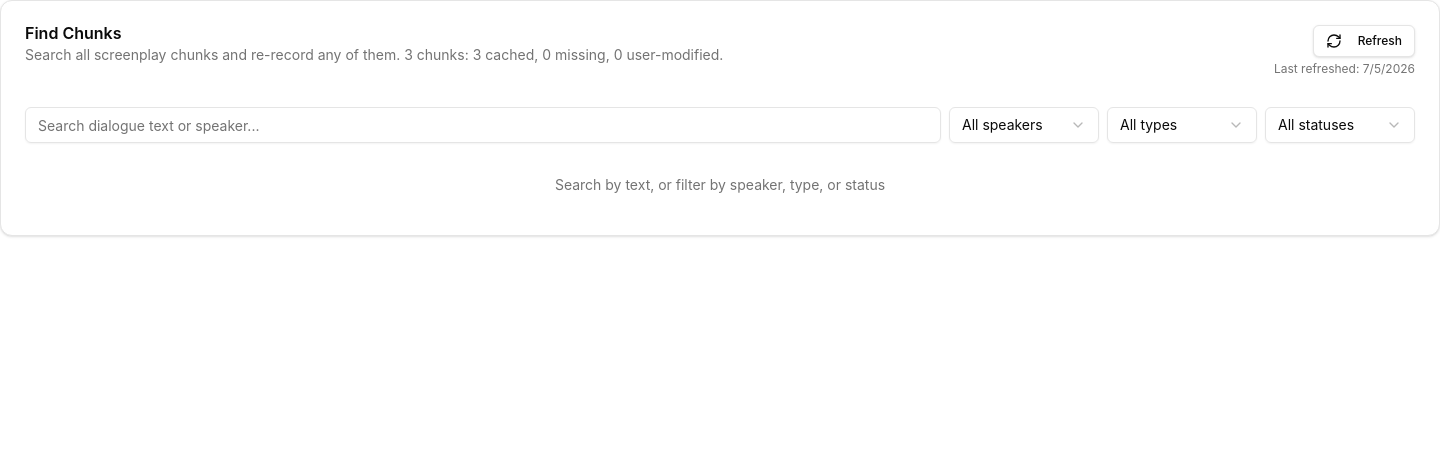
Test case: ChunkSearchSection › hides the chunk number on collapsed cards but keeps it on unique ones
In the field named "Search chunks": (483,125) [25,107,941,143], type "repeated"
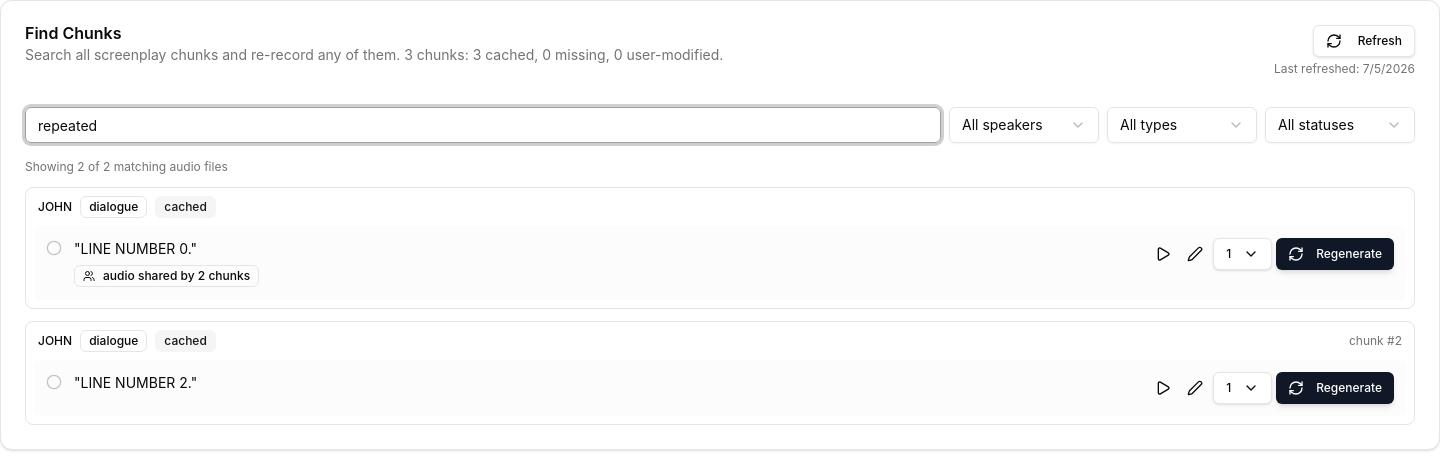
Check: the text "chunk #2" is shown, box [1349,333,1402,349]
